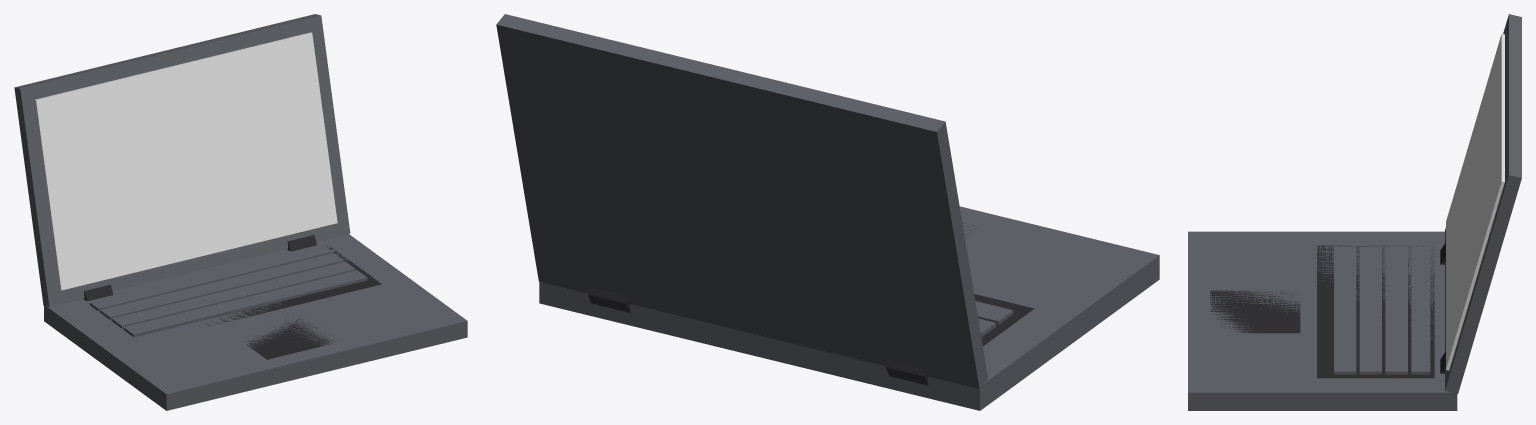
File: FN_Laptop.fbx
3 views of the same model, side by side, from view 1: azimuth 30°, elevation 25°; view 2: azimuth 150°, elevation 25°; view 3: azimuth 270°, elevation 25° (orthographic). The views are drawn at different scales.
Parts seen in each view (by area): view 1: FN_Laptop; view 2: FN_Laptop; view 3: FN_Laptop.
Part boxes in pixels (x1=…): FN_Laptop: x1=14, y1=14, x2=467, y2=410; FN_Laptop: x1=496, y1=14, x2=1159, y2=410; FN_Laptop: x1=1188, y1=14, x2=1521, y2=410.
Bounding box in the file's own units: 34 × 23.21 × 29.77.
2 materials, 1 textured.
